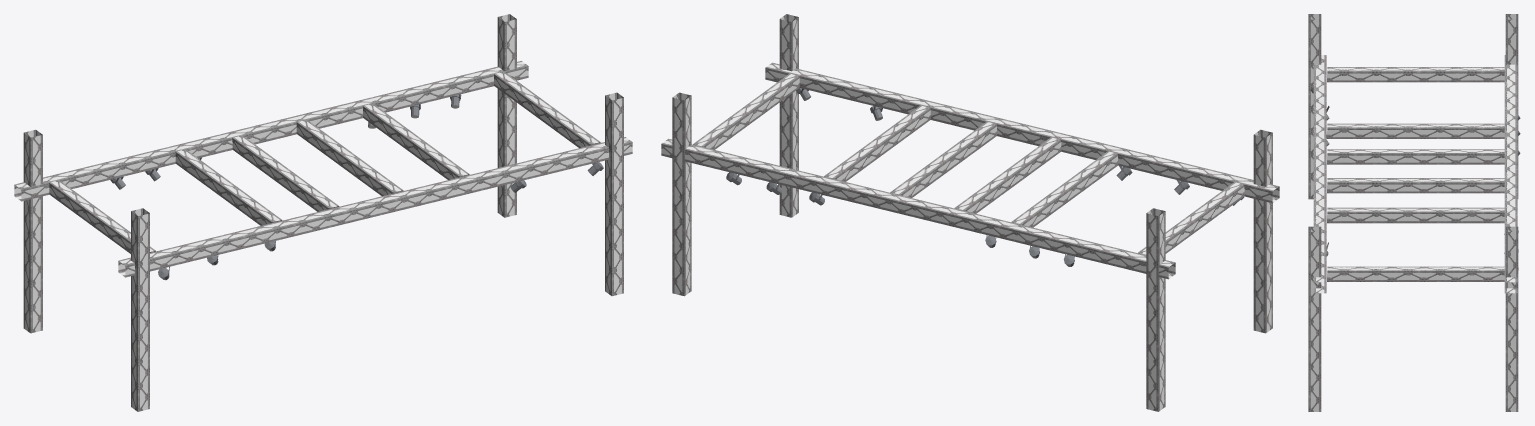
The model's file is LightRig02.fbx.
3 views of the same model, side by side, from view 1: azimuth 30°, elevation 25°; view 2: azimuth 150°, elevation 25°; view 3: azimuth 270°, elevation 25° (orthographic). The views are drawn at different scales.
Parts seen in each view (by area): view 1: Empty_Mesh; view 2: Empty_Mesh; view 3: Empty_Mesh.
Boxes of the visible parts, box(x1,y1,x2,y2) form: Empty_Mesh: box(14, 14, 632, 411); Empty_Mesh: box(661, 14, 1279, 411); Empty_Mesh: box(1308, 14, 1520, 411).
Size of the model in its own units: 2147 by 792 by 846.
